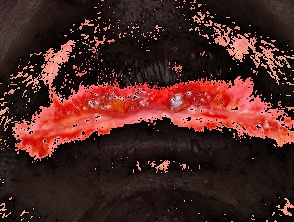SJS-TEN: (23, 36, 294, 142)
